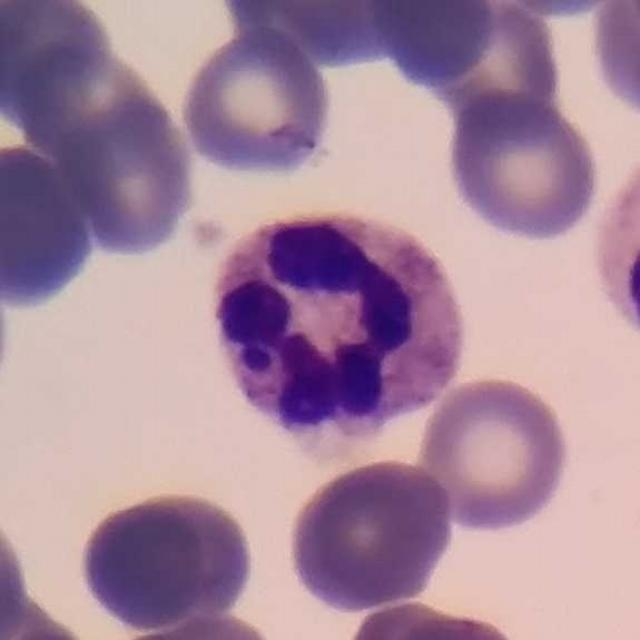Neutrophil: (195, 195, 480, 473), (585, 138, 640, 367)
RBC: (21, 46, 204, 266), (71, 484, 262, 637), (281, 455, 458, 616), (413, 372, 574, 536), (175, 26, 339, 182), (442, 90, 605, 245), (382, 2, 568, 132), (207, 0, 463, 76), (0, 135, 106, 316), (0, 0, 117, 118), (354, 603, 539, 640), (586, 0, 640, 122), (106, 609, 287, 640), (0, 501, 35, 640), (477, 0, 638, 19), (3, 620, 104, 640)
